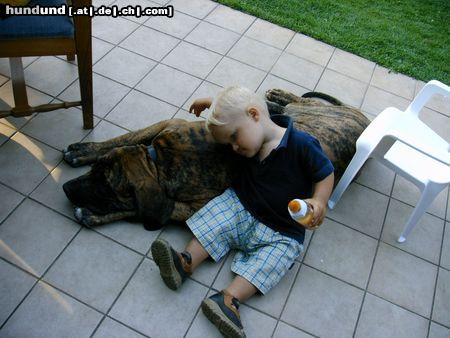fila_brasileiro: (61, 87, 372, 231)
human_face: (210, 104, 264, 159)
person: (150, 85, 334, 338)
